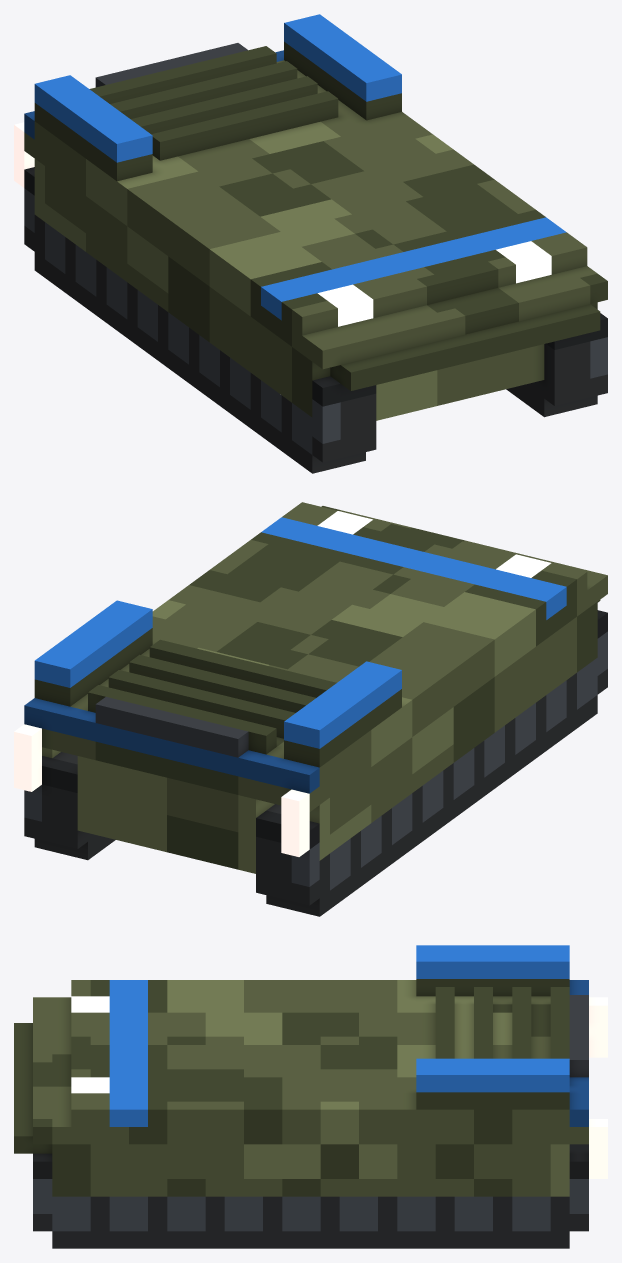
File: cm_tank_h_1.glb
The picture shows the model from 3 angles, top to bottom: view 1: azimuth 30°, elevation 25°; view 2: azimuth 150°, elevation 25°; view 3: azimuth 270°, elevation 25°; orthographic projection. The views are drawn at different scales.
Parts seen in each view (by area): view 1: cm_tank_h_1_body; view 2: cm_tank_h_1_body; view 3: cm_tank_h_1_body.
Part boxes in pixels (left/top/right/bottom): cm_tank_h_1_body: left=14, top=14, right=607, bottom=473; cm_tank_h_1_body: left=14, top=502, right=607, bottom=916; cm_tank_h_1_body: left=14, top=945, right=607, bottom=1248.
Size of the model in its own units: 1 by 0.625 by 1.94.
Materials: 1 (1 with a texture image).
